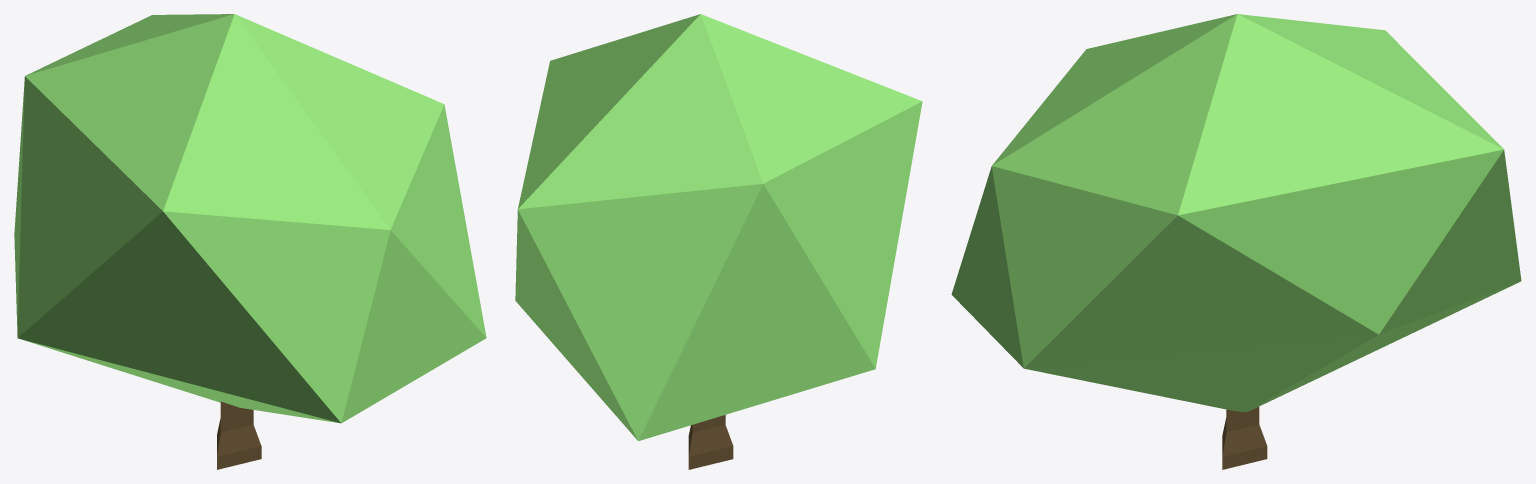
The model's file is Bush_1.fbx.
3 renders of one model, left to right at view 1: azimuth 30°, elevation 25°; view 2: azimuth 150°, elevation 25°; view 3: azimuth 270°, elevation 25°, orthographic.
Parts seen in each view (by area): view 1: Icosphere, Cylinder; view 2: Icosphere, Cylinder; view 3: Icosphere, Cylinder.
Part boxes in pixels (x1,y1,x2,y2): Icosphere: [14, 14, 486, 423]; Cylinder: [217, 401, 261, 469]; Icosphere: [515, 14, 922, 440]; Cylinder: [688, 415, 733, 469]; Icosphere: [951, 14, 1521, 412]; Cylinder: [1222, 407, 1267, 469].
Size of the model in its own units: 194 by 219 by 254.
